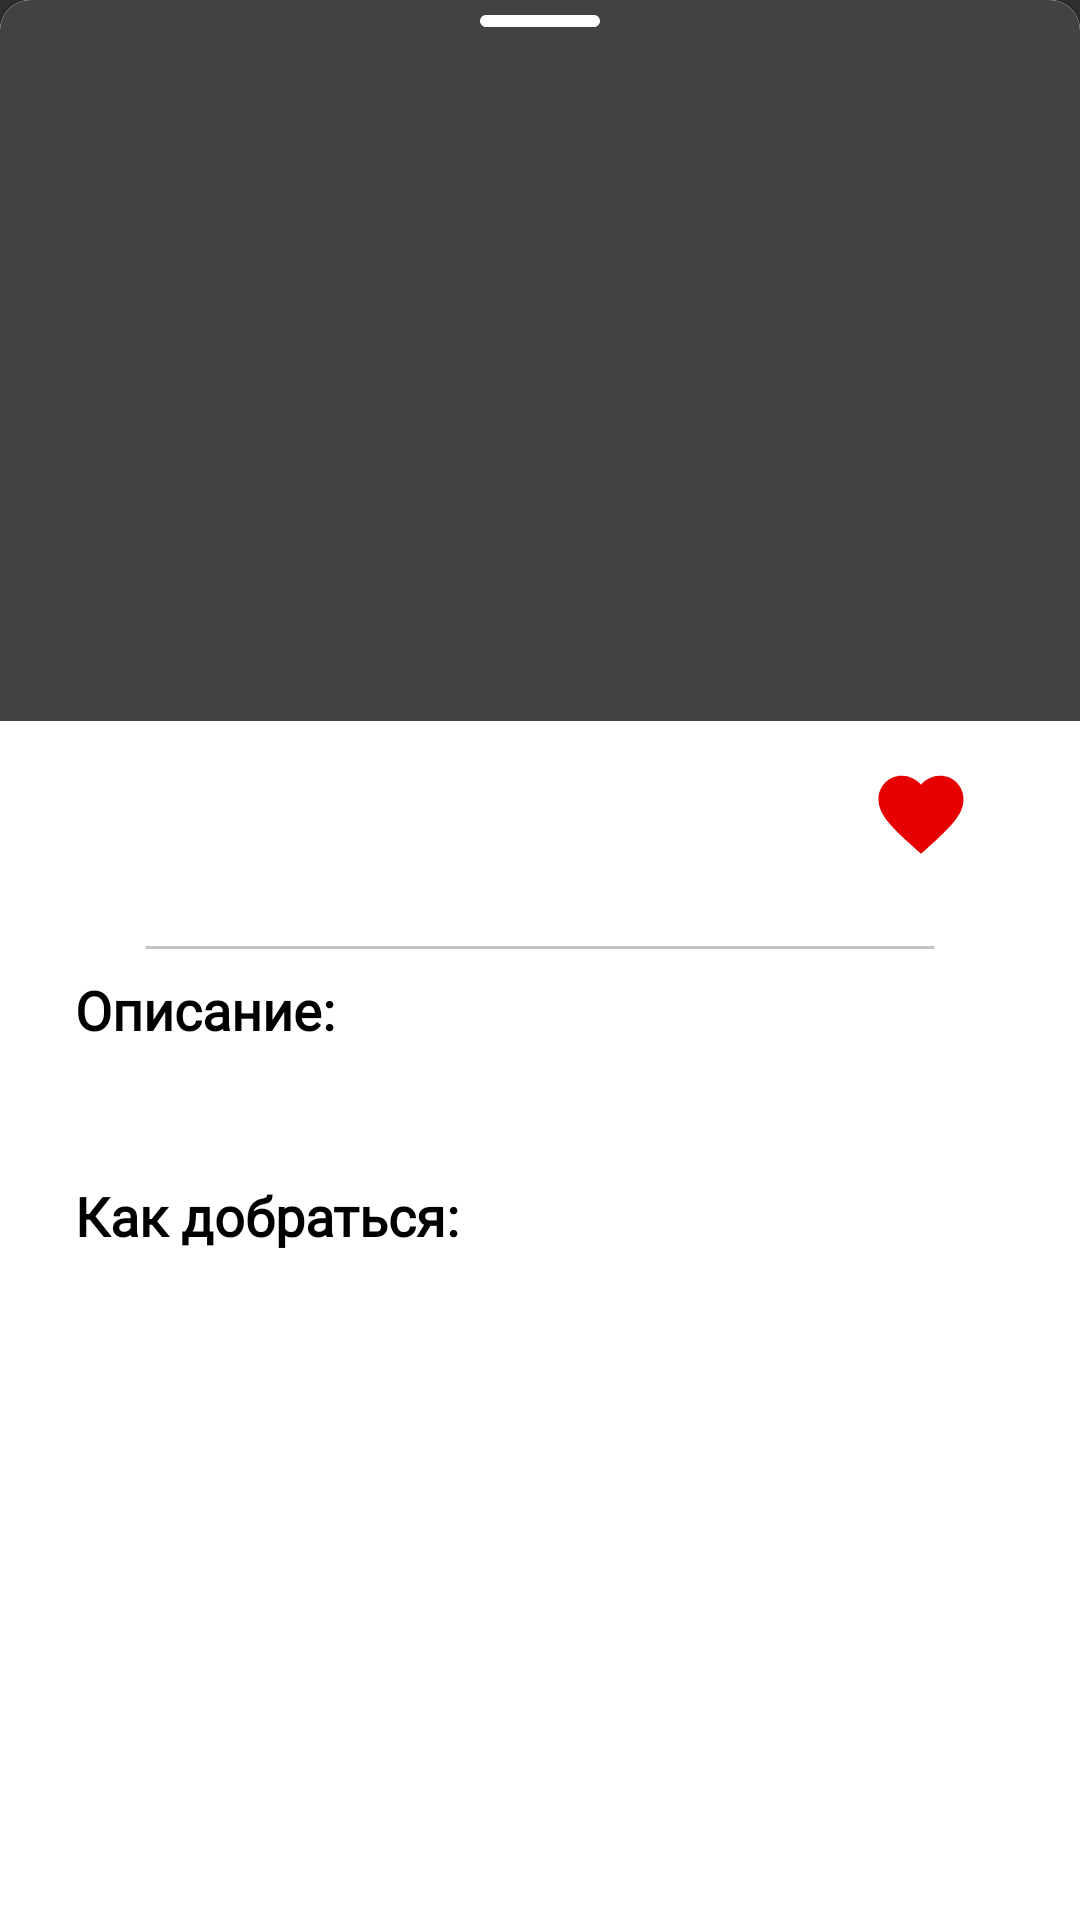

Icon click points for this 1080px×1920px phone screenshot, format [x,y]:
not like: [921,814]
